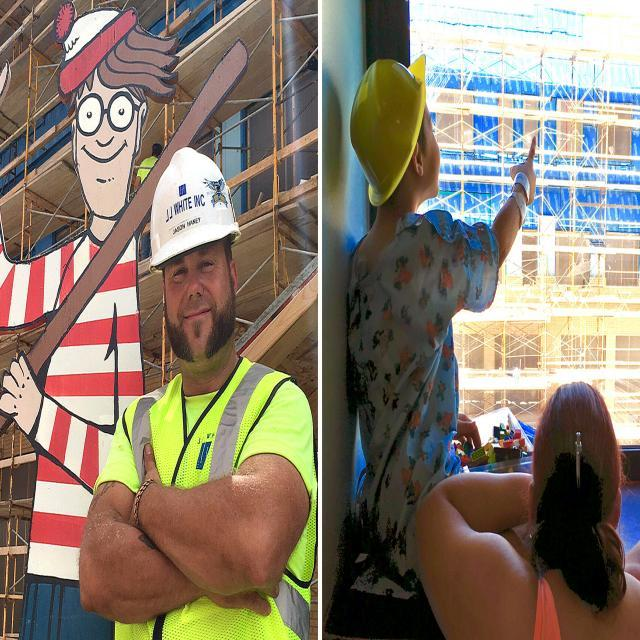reflective_jacket: (115, 363, 318, 639)
safety_helmet: (349, 52, 426, 207), (148, 139, 241, 262)
